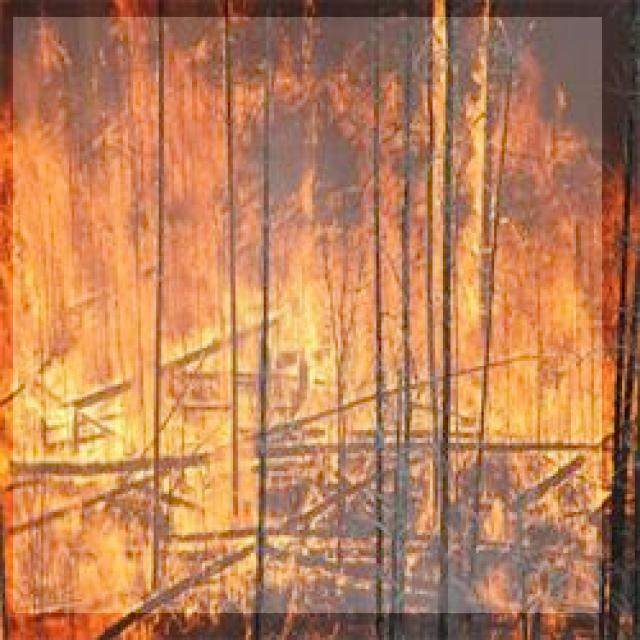Fire: (13, 17, 602, 613)
